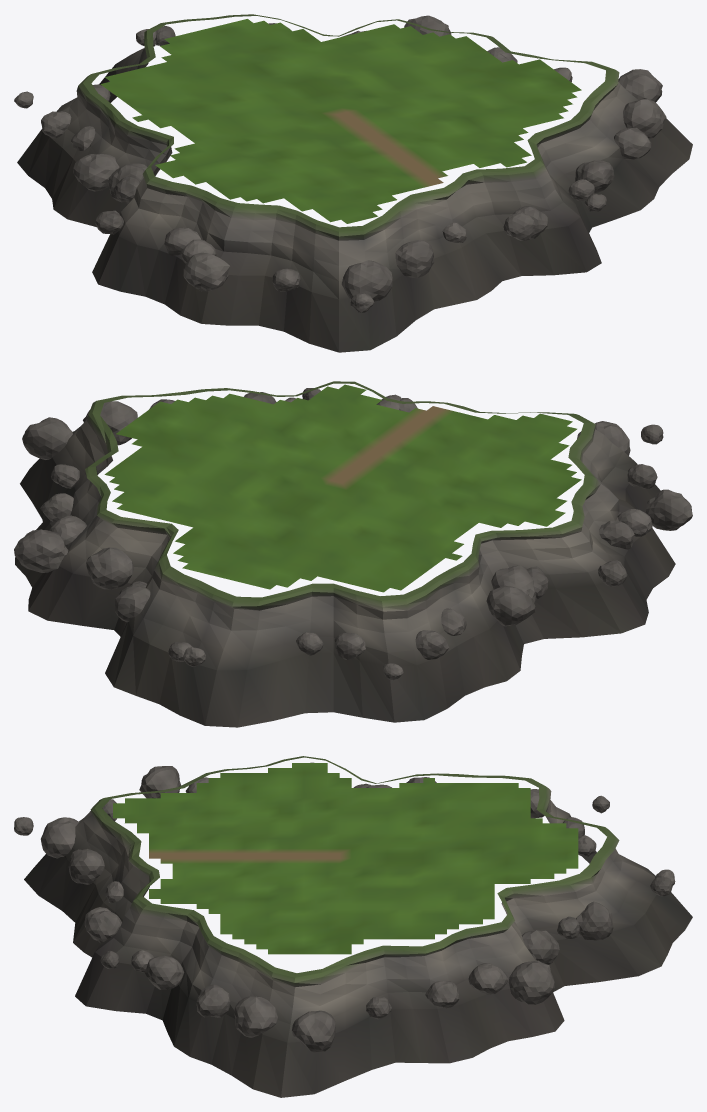
Rendered from island.glb.
3 views of the same model, one above another, from view 1: azimuth 30°, elevation 25°; view 2: azimuth 150°, elevation 25°; view 3: azimuth 270°, elevation 25° (orthographic). The views are drawn at different scales.
Parts seen in each view (by area): view 1: island; view 2: island; view 3: island.
Boxes of the visible parts, <box> form: island: <box>14,14,692,352</box>; island: <box>14,381,692,727</box>; island: <box>14,756,692,1097</box>.
Size of the model in its own units: 84.46 by 12.02 by 85.2.
